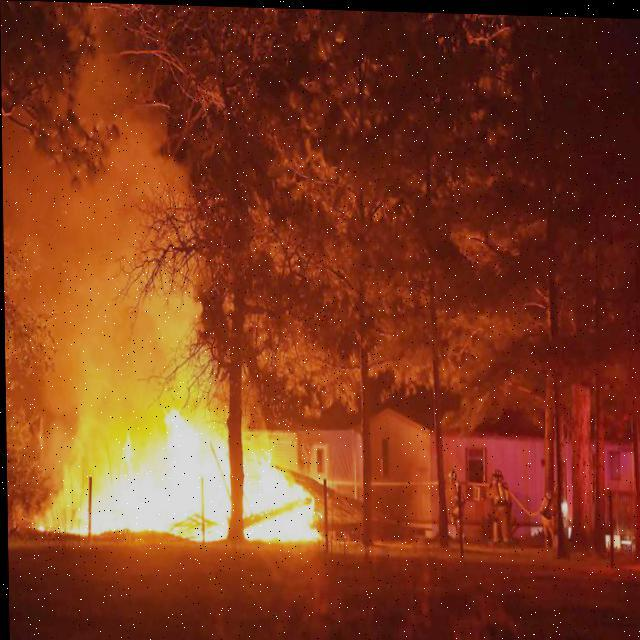Fire: (39, 427, 320, 548)
